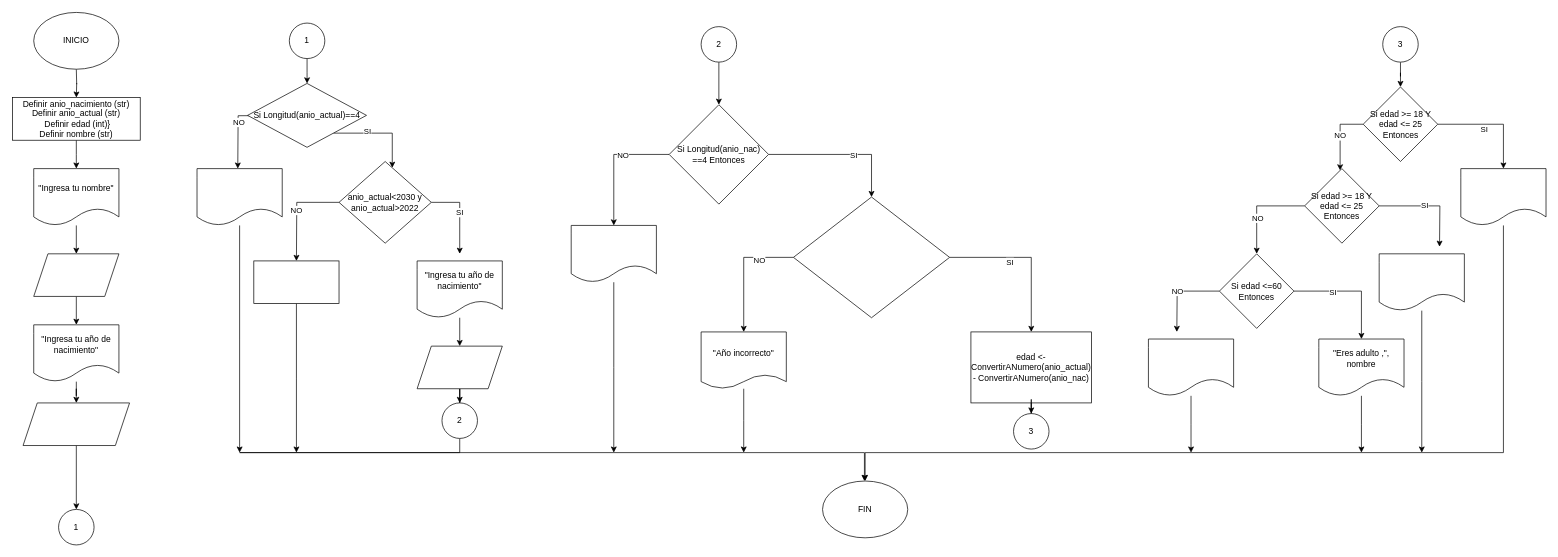
The diagram is 1558 pixels wide and 557 high, and some of its shapes have lost their labels. The shapes that lost their labels are listed below. From the top down, each one's box as (x1, y1, x2, y2) in pixels, then its label:
(196, 168, 282, 225): "Formato incorrecto"
(1460, 168, 1546, 225): "Eres joven, ", nombre
(570, 225, 656, 282): "Formato del año incorrecto"
(793, 196, 950, 318): Si ConvertirANumero(anio_nac) <2013 Y ConvertirANumero(anio_nac)>1930
(33, 253, 119, 296): Leer nombre
(253, 260, 339, 304): "Año no soportado por el programa"
(1378, 253, 1464, 311): "Eres adulto joven, ", nombre
(416, 345, 502, 389): anio_nac
(1148, 338, 1234, 396): "Eres adulto mayor, ", nombre
(22, 402, 130, 446): Leer anio_nacimiento
